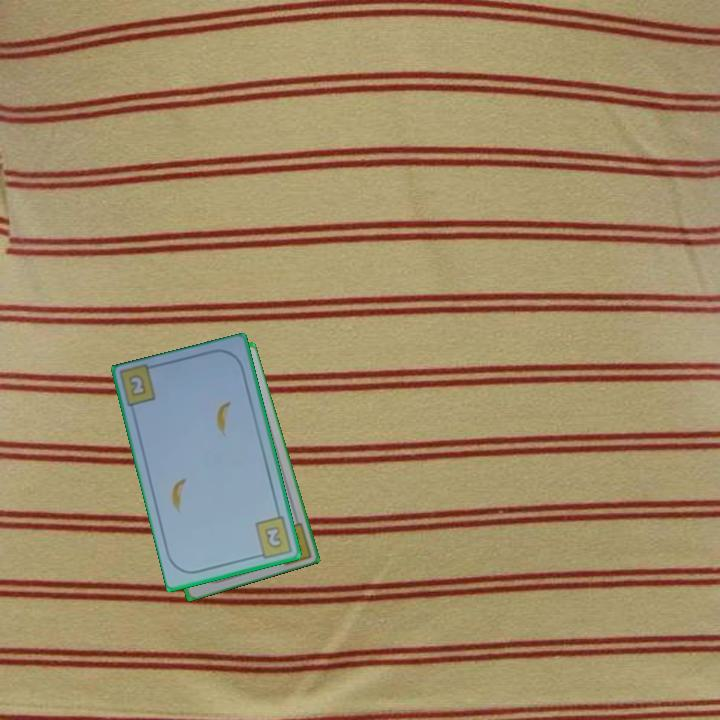2b: (251, 513, 295, 561), (125, 371, 149, 400)
